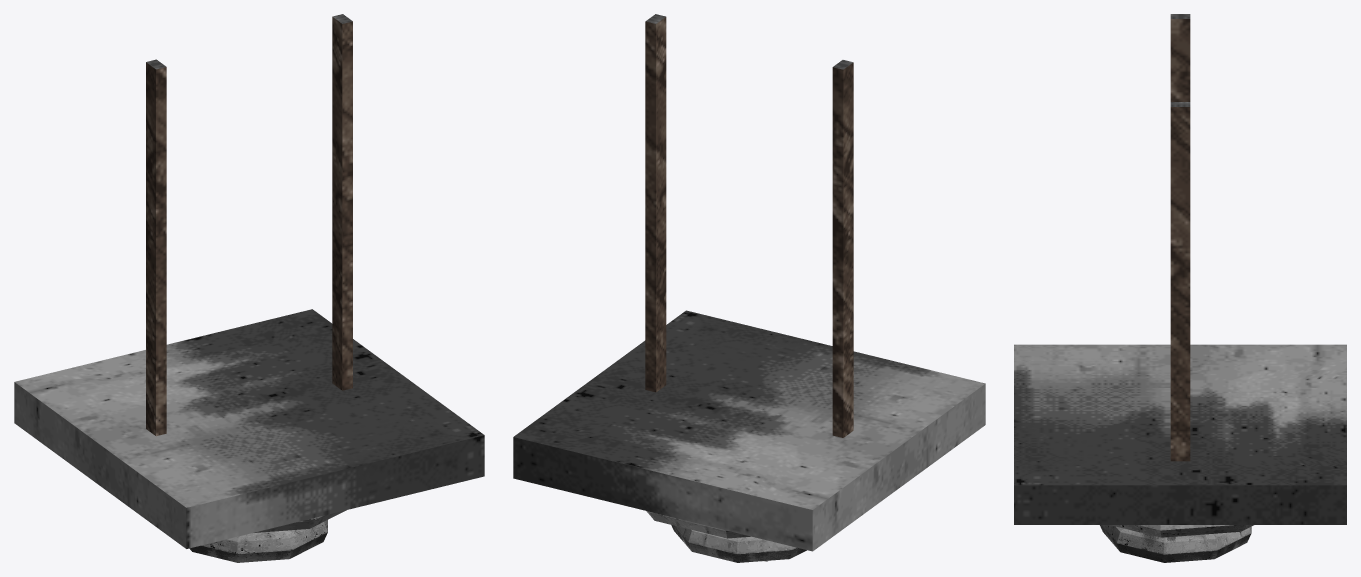
The model's file is NaveCentral_lampara.fbx.
3 views of the same model, side by side, from view 1: azimuth 30°, elevation 25°; view 2: azimuth 150°, elevation 25°; view 3: azimuth 270°, elevation 25° (orthographic). The views are drawn at different scales.
Visible parts, largest first — view 1: NC_Lampara; view 2: NC_Lampara; view 3: NC_Lampara.
Boxes of the visible parts, x1,y1,x2,y2 form: NC_Lampara: (14, 14, 484, 562); NC_Lampara: (513, 14, 985, 562); NC_Lampara: (1014, 14, 1346, 562).
Size of the model in its own units: 693 by 1130 by 693.
